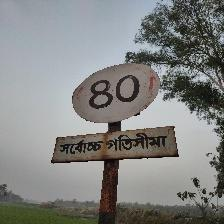Speed-limit: (52, 61, 175, 164)
